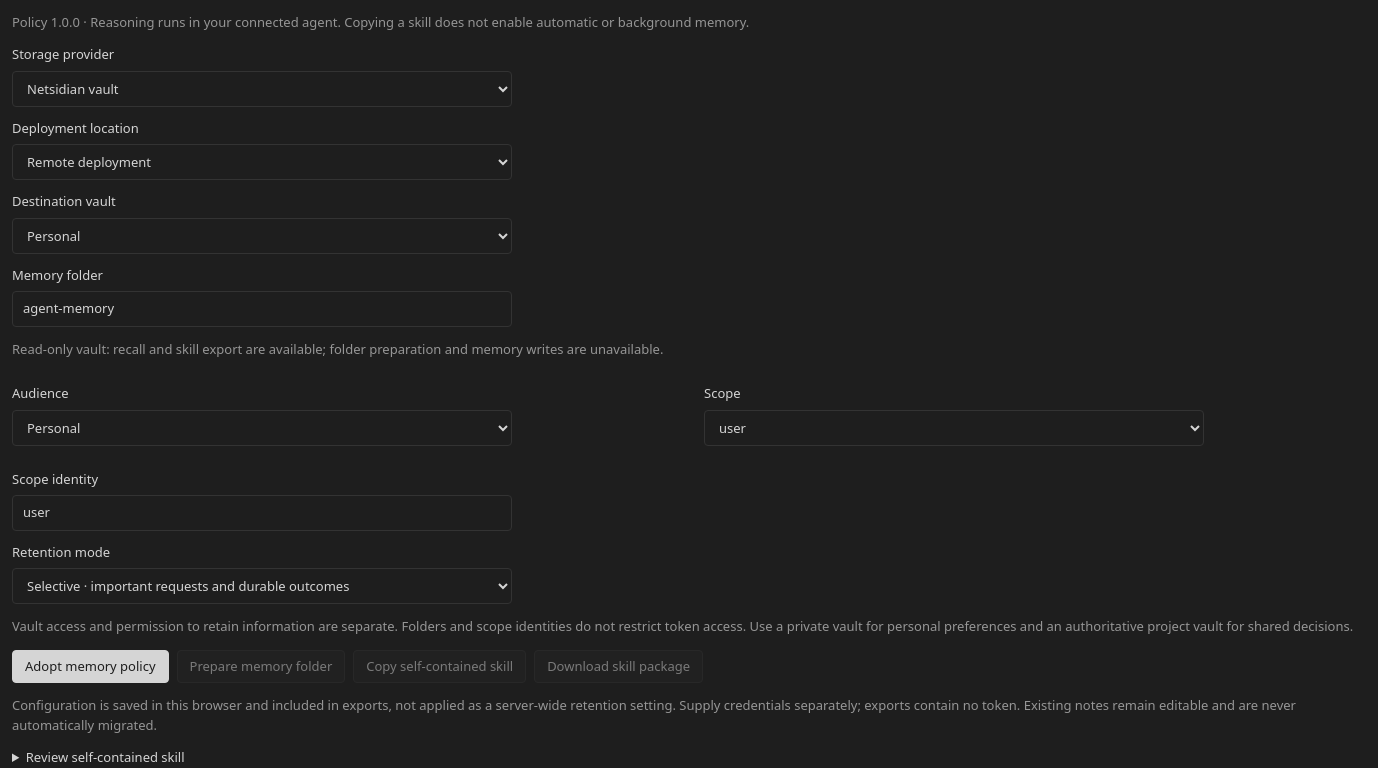
it: shows selective mode and readonly destination without writing or migrating memory
(page scrolled)
Expected: the dropdown named "Memory retention mode" shows "Selective · important requests and durable outcomes", x1=12 y1=568 x2=512 y2=604
Expected: the button "Prepare memory folder" is disabled, x1=177 y1=650 x2=345 y2=683
What coordinates should you click on to do the following:
click the button "Adopt memory policy"
I would click on:
 (90, 666)
Its box is x1=12 y1=650 x2=169 y2=683.
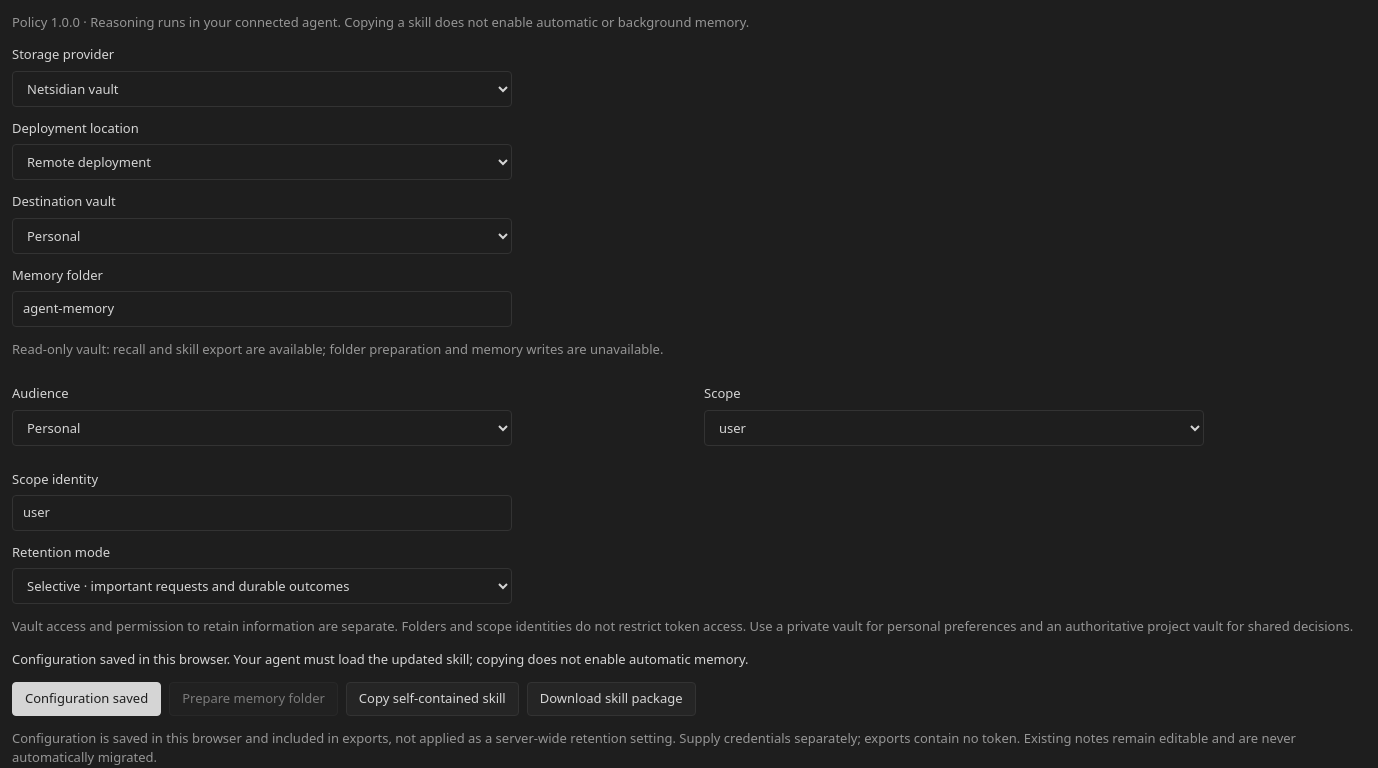
Expected: the button "Prepare memory folder" is disabled, x1=169 y1=682 x2=338 y2=716
Expected: the button "Copy self-contained skill" is enabled, x1=346 y1=682 x2=519 y2=716
Expected: the text "does not enable automatic memory" is shown, x1=12 y1=650 x2=748 y2=668
